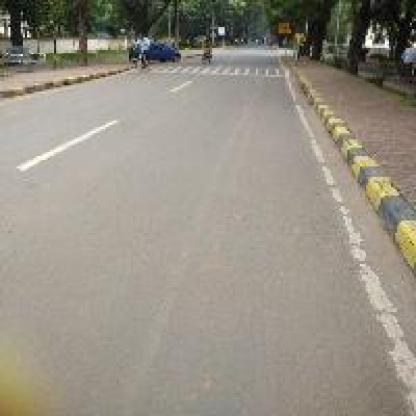Speed Bump: (133, 65, 285, 76)
